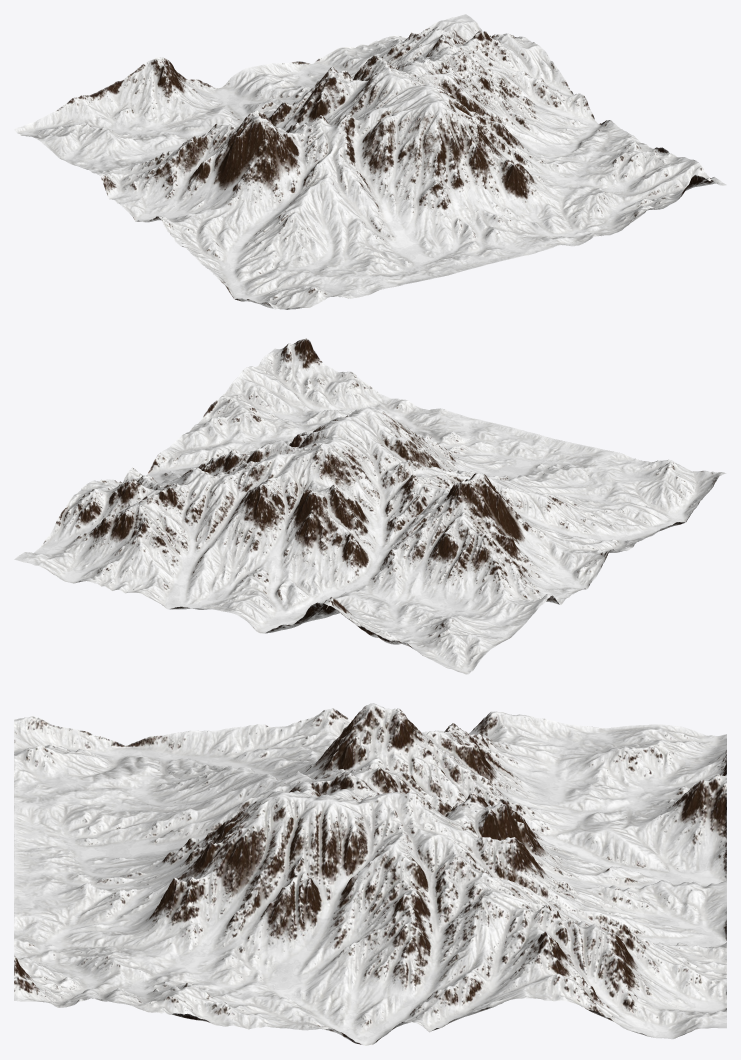
The model's file is snowy_mountain.glb.
3 views of the same model, one above another, from view 1: azimuth 30°, elevation 25°; view 2: azimuth 150°, elevation 25°; view 3: azimuth 270°, elevation 25° (orthographic). The views are drawn at different scales.
Visible parts, largest first — view 1: Object_2, Object_3, Object_4; view 2: Object_2, Object_3, Object_4; view 3: Object_3, Object_2, Object_4.
Boxes of the visible parts, left/top/right/bottom form: Object_2: left=14, top=30, right=656, bottom=309; Object_3: left=27, top=14, right=675, bottom=309; Object_4: left=15, top=18, right=726, bottom=308; Object_2: left=63, top=401, right=726, bottom=674; Object_3: left=14, top=392, right=720, bottom=670; Object_4: left=20, top=338, right=722, bottom=673; Object_3: left=14, top=724, right=726, bottom=1045; Object_2: left=14, top=703, right=726, bottom=1010; Object_4: left=14, top=704, right=726, bottom=1041.
Size of the model in its own units: 200 by 39.21 by 200.
1 material, 1 textured.
